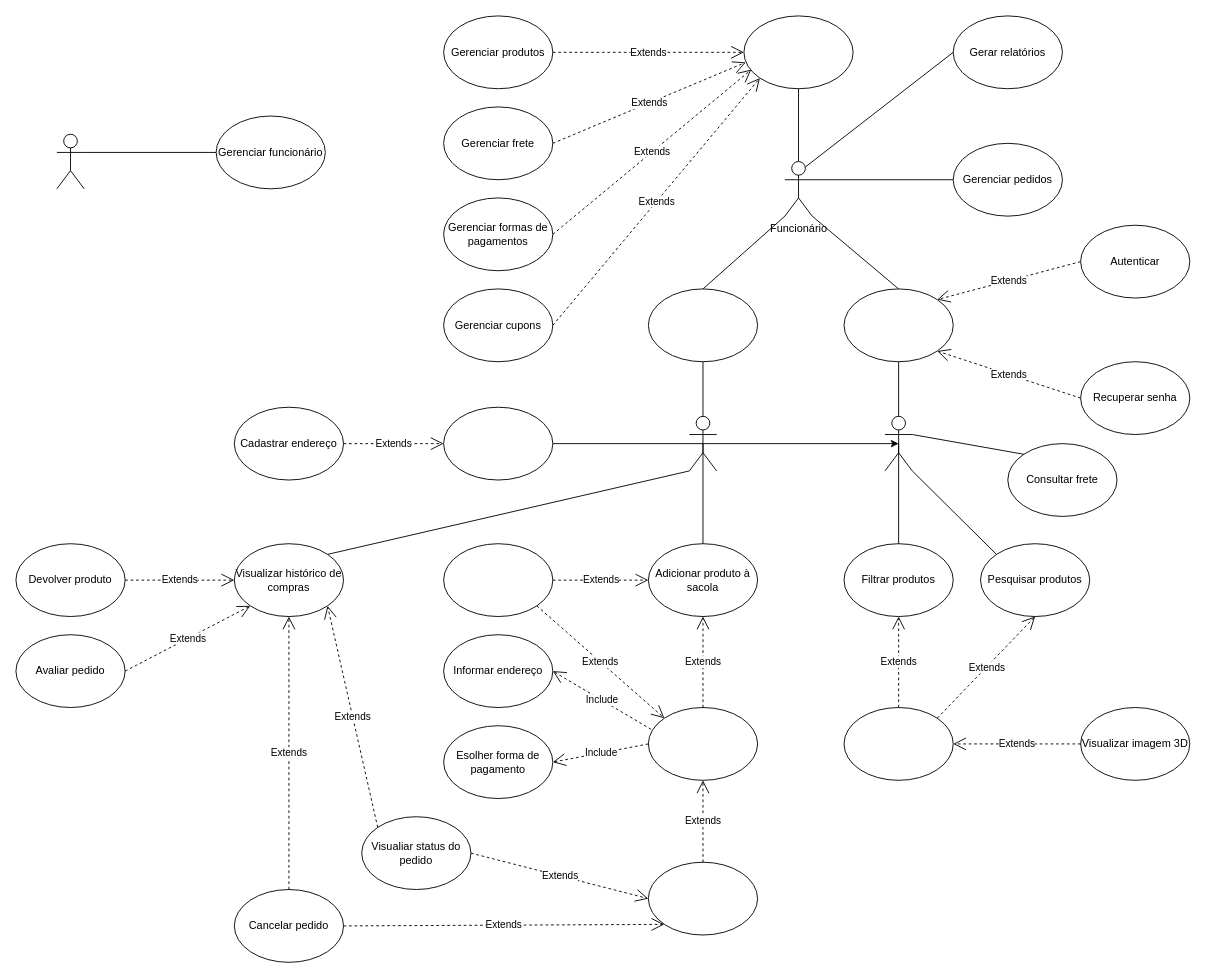
The diagram is 1206 pixels wide and 978 high, and some of its shapes have lost their labels. The shapes that lost their labels are listed below. From the top down, each one's box as (x1, y1, x2, y2) in pixels, then its label:
(743, 15, 853, 89): Gerenciar dados
(56, 133, 84, 189): Administrador
(647, 288, 758, 362): Fazer logout
(843, 288, 953, 362): Fazer Login
(443, 406, 553, 480): Gerenciar cadastro
(688, 415, 717, 471): Usuário Cadastrado
(884, 415, 912, 471): Visitante
(443, 543, 553, 617): Cancelar produto
(647, 707, 758, 780): Concluir compra
(843, 707, 953, 780): Visualizar produtos
(647, 861, 758, 935): Enviar pedido
